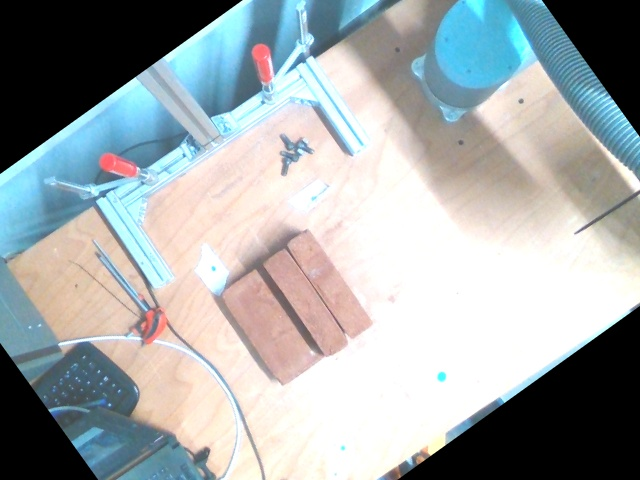brick: (218, 267, 322, 387)
brick-side: (285, 228, 375, 339), (263, 247, 350, 355)
